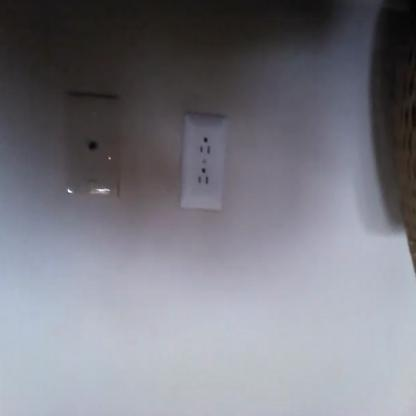OUTLET: (178, 118, 226, 209)
